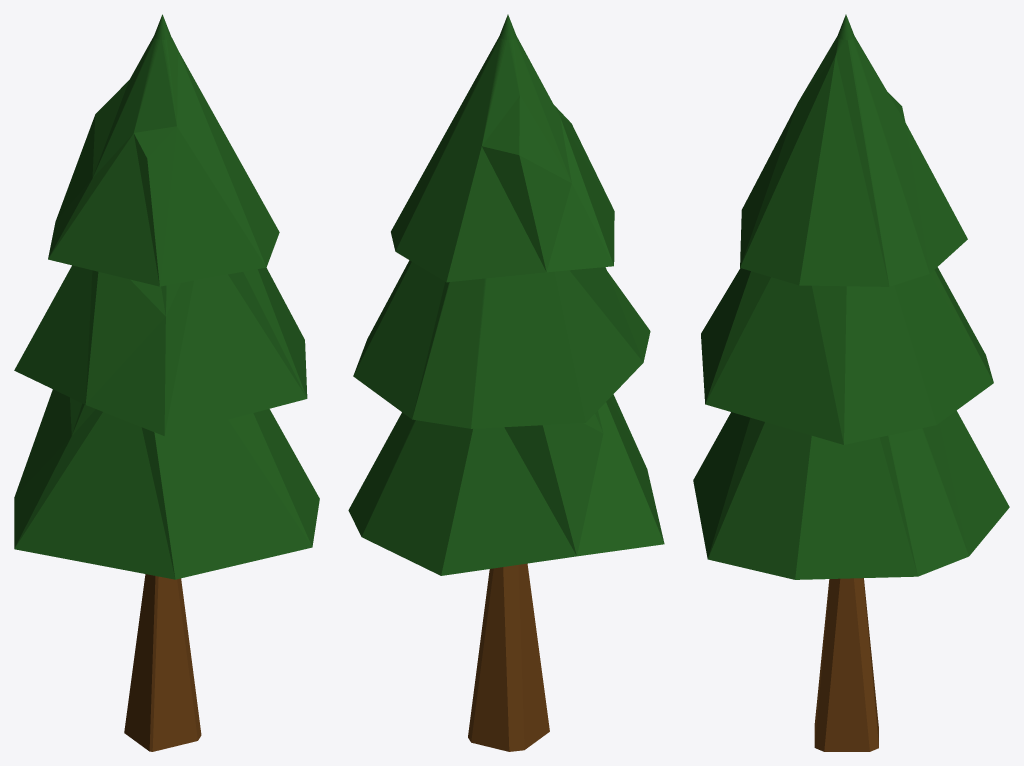
File: pino.fbx
3 views of the same model, side by side, from view 1: azimuth 30°, elevation 25°; view 2: azimuth 150°, elevation 25°; view 3: azimuth 270°, elevation 25° (orthographic).
Parts seen in each view (by area): view 1: arbol fino.003; view 2: arbol fino.003; view 3: arbol fino.003.
Part boxes in pixels (x1=…): arbol fino.003: x1=14, y1=14, x2=319, y2=751; arbol fino.003: x1=348, y1=14, x2=664, y2=751; arbol fino.003: x1=693, y1=14, x2=1009, y2=751.
Size of the model in its own units: 485 by 1137 by 451.
